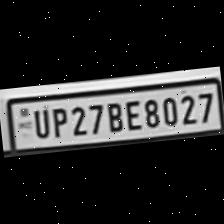0: (158, 92, 178, 126)
2: (176, 90, 198, 126), (66, 102, 88, 137)
7: (194, 89, 216, 124), (84, 100, 104, 136)
8: (140, 94, 160, 130)
B: (103, 99, 124, 133)
E: (121, 96, 142, 132)
P: (48, 104, 69, 139)
U: (28, 105, 50, 140)
